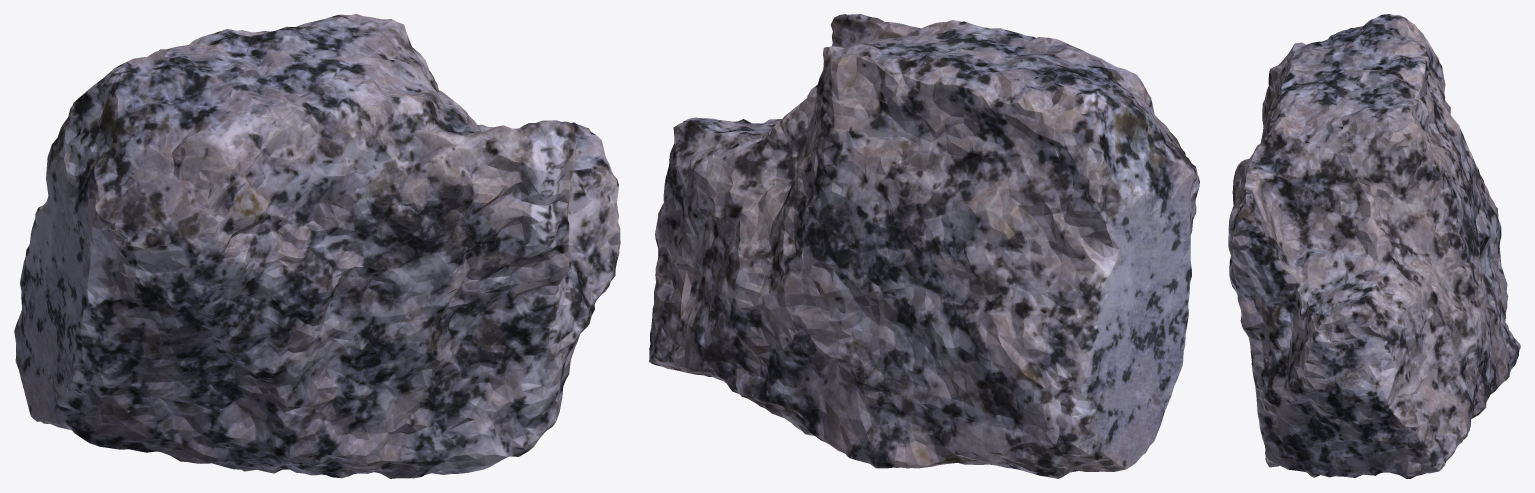
The model's file is granite_low.glb.
3 renders of one model, left to right at view 1: azimuth 30°, elevation 25°; view 2: azimuth 150°, elevation 25°; view 3: azimuth 270°, elevation 25°, orthographic. The views are drawn at different scales.
Visible parts, largest first — view 1: BiotiteGranite.001; view 2: BiotiteGranite.001; view 3: BiotiteGranite.001.
Boxes of the visible parts, box(x1,y1,x2,y2) form: BiotiteGranite.001: box(14, 14, 620, 478); BiotiteGranite.001: box(649, 14, 1199, 478); BiotiteGranite.001: box(1228, 14, 1520, 478).
Size of the model in its own units: 2.12 by 1.65 by 1.26.
Materials: 1 (1 with a texture image).
